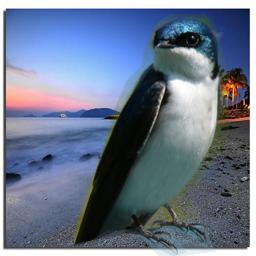Swallow: (74, 14, 229, 256)
